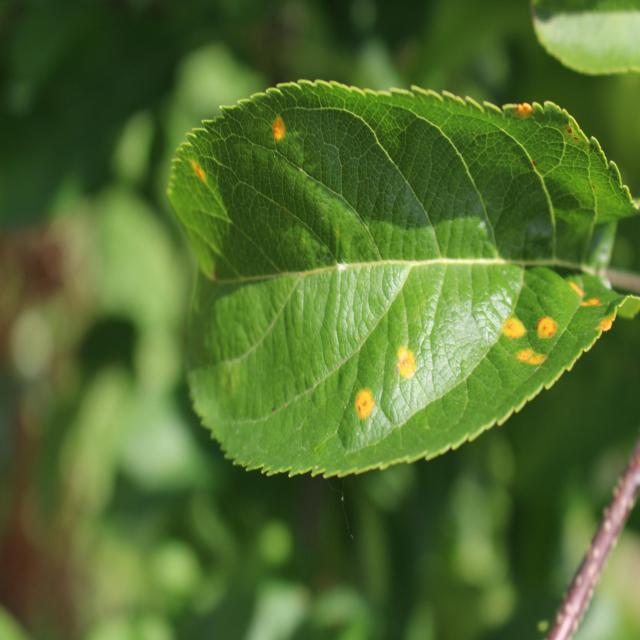Rust: (395, 332, 420, 398), (263, 111, 297, 152), (509, 343, 550, 377), (347, 379, 379, 422), (493, 304, 529, 342), (536, 304, 562, 348), (189, 150, 208, 196), (578, 289, 603, 320), (566, 263, 584, 304)
